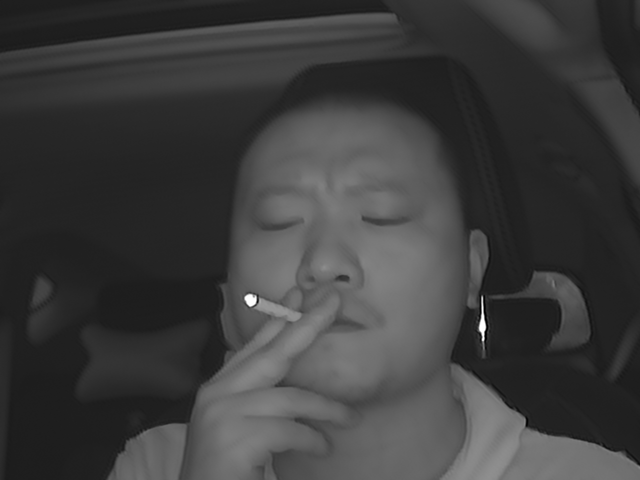hand: (206, 286, 354, 451)
